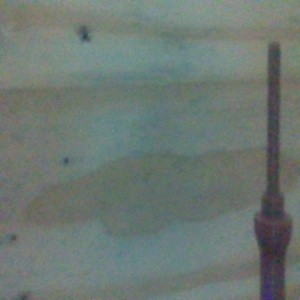obeng: (253, 40, 294, 300)
